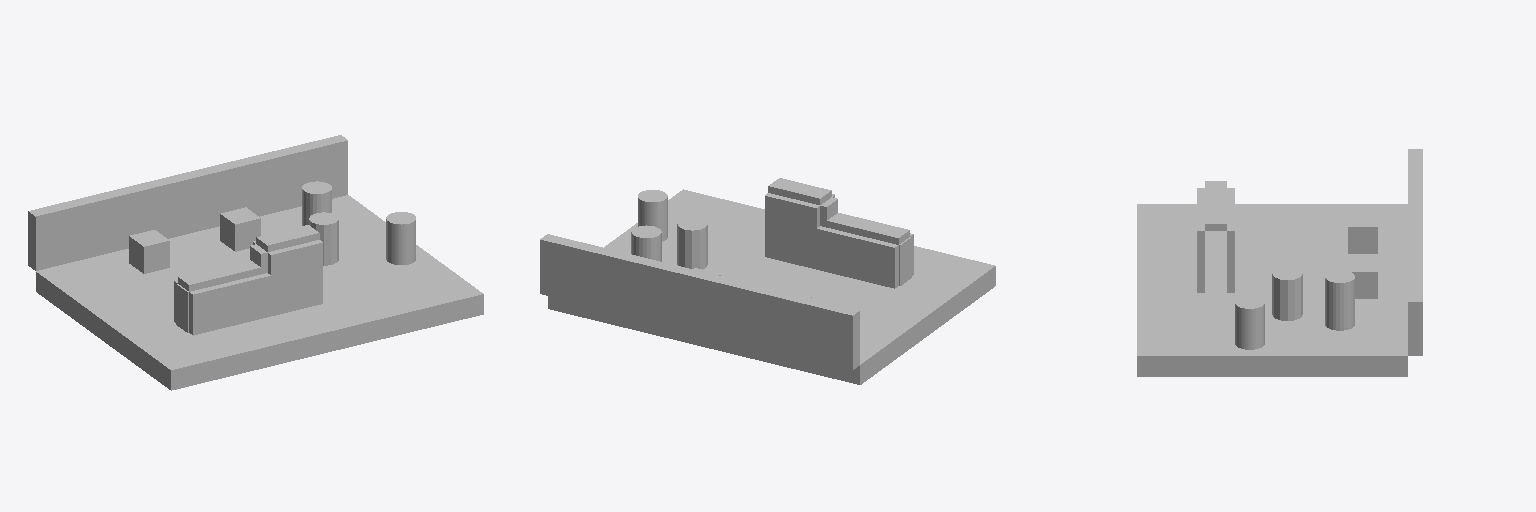
The model's file is testmap.obj.
The picture shows the model from 3 angles: view 1: azimuth 30°, elevation 25°; view 2: azimuth 150°, elevation 25°; view 3: azimuth 270°, elevation 25°; orthographic projection.
Parts seen in each view (by area): view 1: entity0_brush0, entity0_brush1, entity0_brush4, entity0_brush8, entity0_brush13, entity0_brush2, entity0_brush3, entity0_brush6, entity0_brush11, entity0_brush10, entity0_brush12, entity4_brush0; view 2: entity0_brush0, entity0_brush1, entity0_brush5, entity0_brush7, entity0_brush11, entity0_brush6, entity0_brush13, entity0_brush10, entity0_brush12, entity4_brush0; view 3: entity0_brush0, entity0_brush1, entity0_brush12, entity0_brush11, entity0_brush13, entity0_brush2, entity0_brush3, entity0_brush10, entity0_brush7, entity0_brush8.
Boxes of the visible parts, <box> form: entity0_brush0: <box>36,195,483,390</box>; entity0_brush1: <box>28,135,347,270</box>; entity0_brush4: <box>189,273,270,335</box>; entity0_brush8: <box>268,240,322,315</box>; entity0_brush13: <box>386,212,415,264</box>; entity0_brush2: <box>129,230,169,273</box>; entity0_brush3: <box>220,207,260,251</box>; entity0_brush6: <box>178,259,260,291</box>; entity0_brush11: <box>309,212,338,265</box>; entity0_brush10: <box>256,225,319,251</box>; entity0_brush12: <box>302,181,331,225</box>; entity4_brush0: <box>176,284,188,332</box>; entity0_brush0: <box>548,189,995,384</box>; entity0_brush1: <box>540,234,859,369</box>; entity0_brush5: <box>817,226,898,288</box>; entity0_brush7: <box>765,193,819,269</box>; entity0_brush11: <box>677,218,707,269</box>; entity0_brush6: <box>827,213,909,244</box>; entity0_brush13: <box>638,190,667,241</box>; entity0_brush10: <box>768,178,831,204</box>; entity0_brush12: <box>631,225,661,261</box>; entity4_brush0: <box>899,237,911,285</box>; entity0_brush0: <box>1137,204,1407,376</box>; entity0_brush1: <box>1408,149,1422,355</box>; entity0_brush12: <box>1325,270,1354,330</box>; entity0_brush11: <box>1272,268,1302,320</box>; entity0_brush13: <box>1235,296,1264,349</box>; entity0_brush2: <box>1348,214,1377,253</box>; entity0_brush3: <box>1348,259,1377,298</box>; entity0_brush10: <box>1205,199,1226,230</box>; entity0_brush7: <box>1227,206,1234,292</box>; entity0_brush8: <box>1197,206,1204,292</box>.
Bounding box in the file's own units: 768 × 208 × 608.